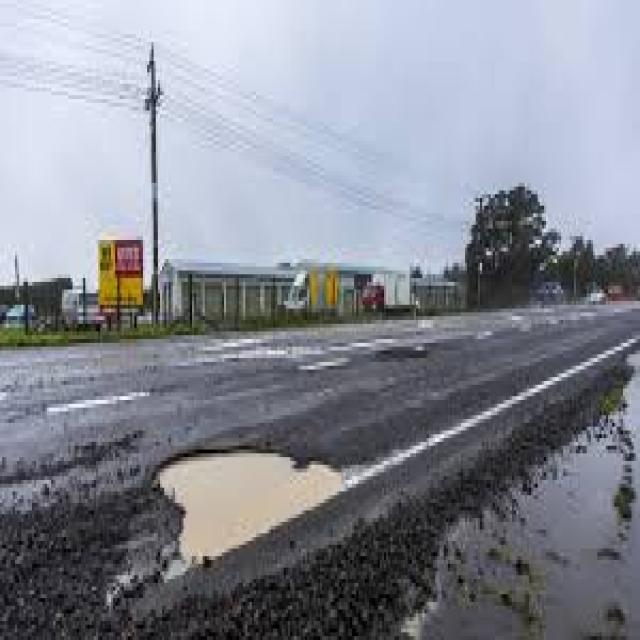Pothole: (154, 450, 346, 568)
